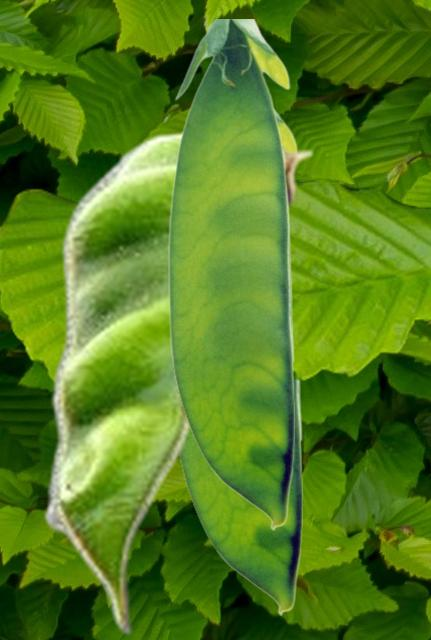pea: (42, 125, 314, 635), (167, 19, 293, 529), (178, 106, 301, 614)
